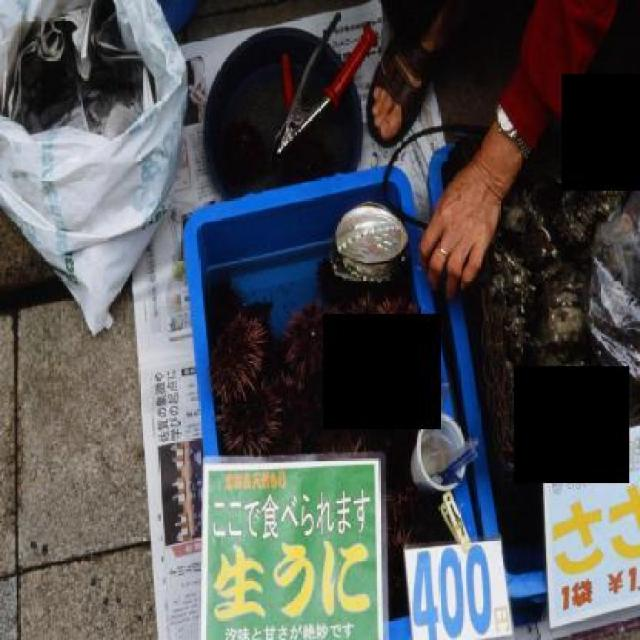plastic bag: (0, 0, 188, 340)
